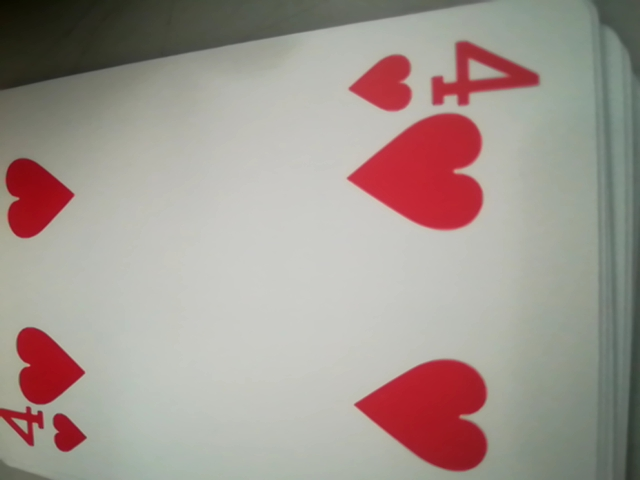hx 4: (342, 30, 544, 119)
